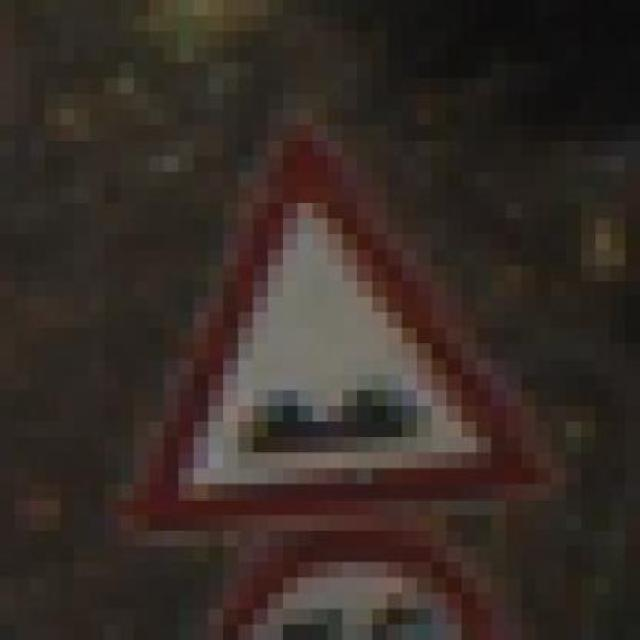Uneven Road: (104, 109, 565, 531)
